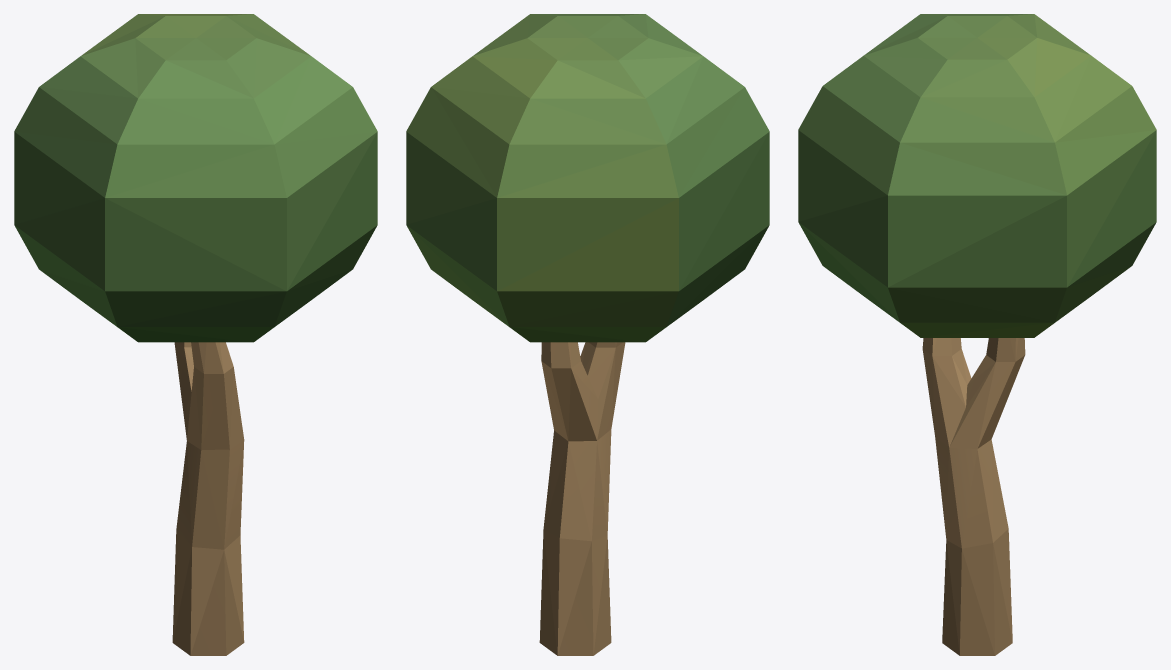
File: Prop_Tree_Oak_2.glb
The picture shows the model from 3 angles, left to right: view 1: azimuth 30°, elevation 25°; view 2: azimuth 150°, elevation 25°; view 3: azimuth 270°, elevation 25°; orthographic projection.
Visible parts, largest first — view 1: object2, object1; view 2: object2, object1; view 3: object2, object1.
Part boxes in pixels (x1,y1,x2,y2): object2: [14, 14, 377, 342]; object1: [172, 342, 244, 655]; object2: [406, 14, 769, 342]; object1: [539, 342, 625, 655]; object2: [798, 14, 1156, 337]; object1: [922, 338, 1025, 655].
Bounding box in the file's own units: 2.2 × 4.68 × 2.54.
